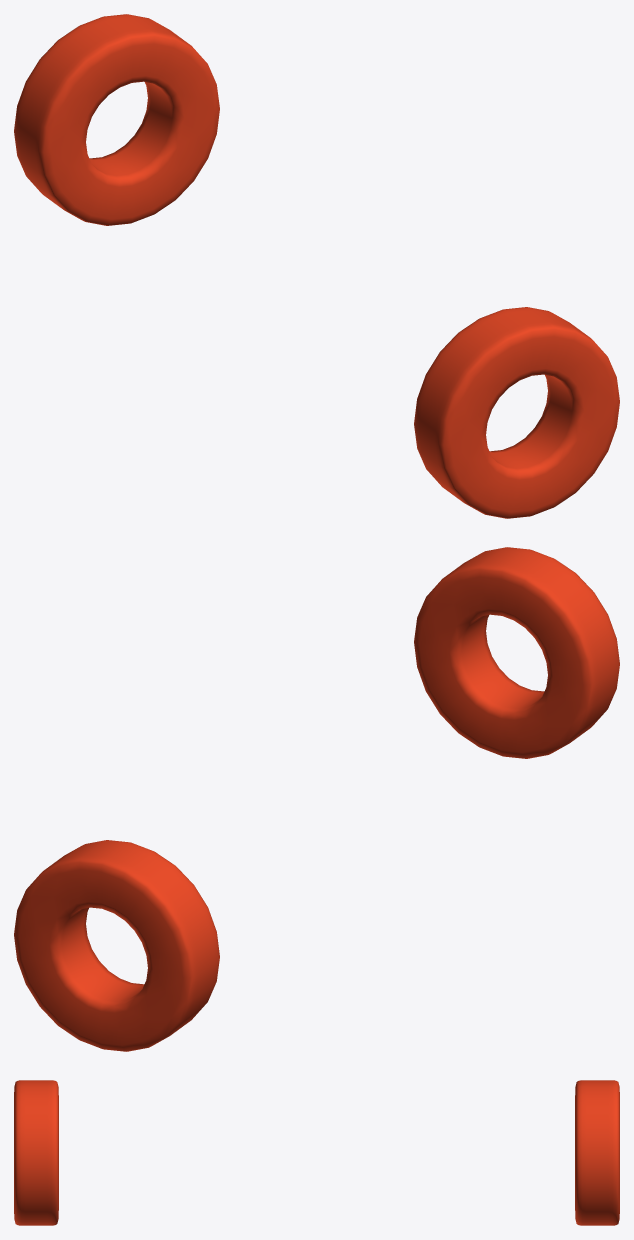
File: Gurney_Rubber.fbx
3 renders of one model, top to bottom at view 1: azimuth 30°, elevation 25°; view 2: azimuth 150°, elevation 25°; view 3: azimuth 270°, elevation 25°, orthographic. The views are drawn at different scales.
Parts seen in each view (by area): view 1: CoronersCartTEST.obj.050; view 2: CoronersCartTEST.obj.050; view 3: CoronersCartTEST.obj.050.
Part boxes in pixels (x1,y1,x2,y2): CoronersCartTEST.obj.050: [14, 14, 619, 518]; CoronersCartTEST.obj.050: [14, 547, 619, 1051]; CoronersCartTEST.obj.050: [14, 1080, 619, 1225].
Bounding box in the file's own units: 43.93 × 43.93 × 182.
